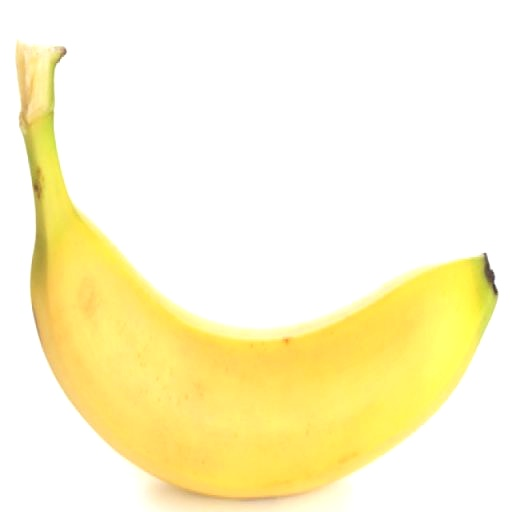fruit: (16, 42, 495, 497)
